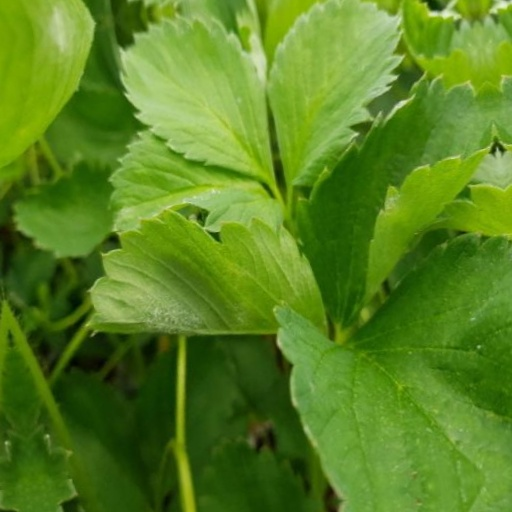Powdery Mildew Leaf: (195, 193, 436, 350), (232, 113, 395, 210)
